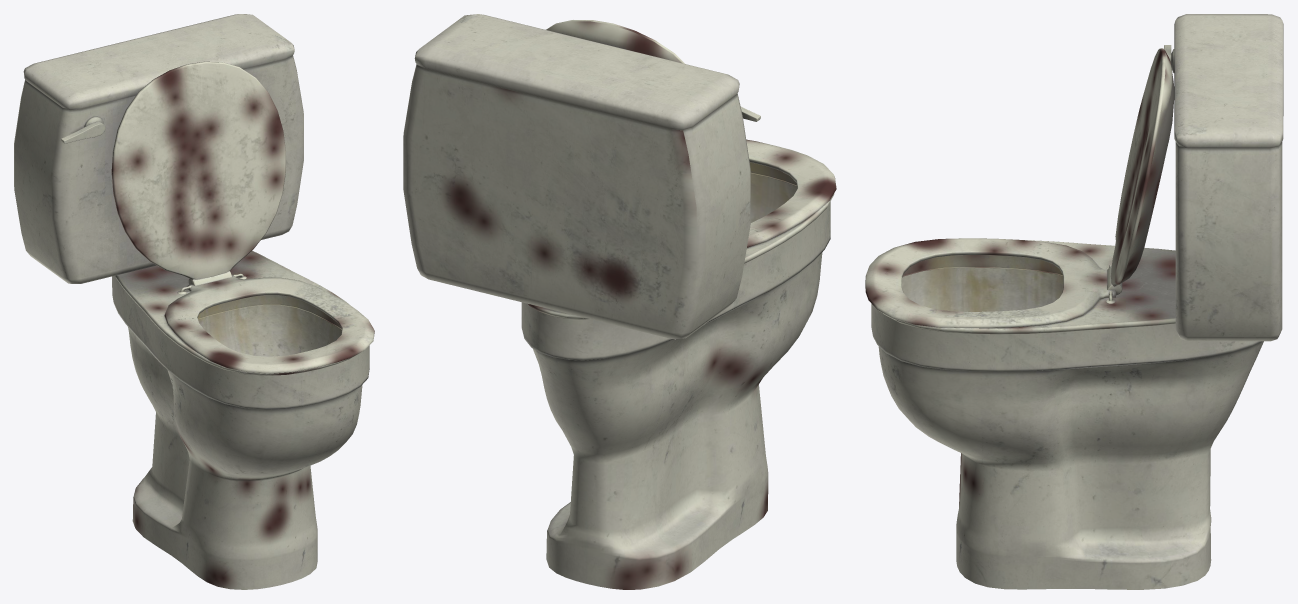
File: tualet.fbx
3 views of the same model, side by side, from view 1: azimuth 30°, elevation 25°; view 2: azimuth 150°, elevation 25°; view 3: azimuth 270°, elevation 25° (orthographic). The views are drawn at different scales.
Visible parts, largest first — view 1: polySurface5; view 2: polySurface5; view 3: polySurface5.
Boxes of the visible parts, x1,y1,x2,y2 form: polySurface5: (14, 14, 374, 589); polySurface5: (403, 14, 836, 589); polySurface5: (865, 14, 1283, 589).
Bounding box in the file's own units: 145 × 248 × 188.
